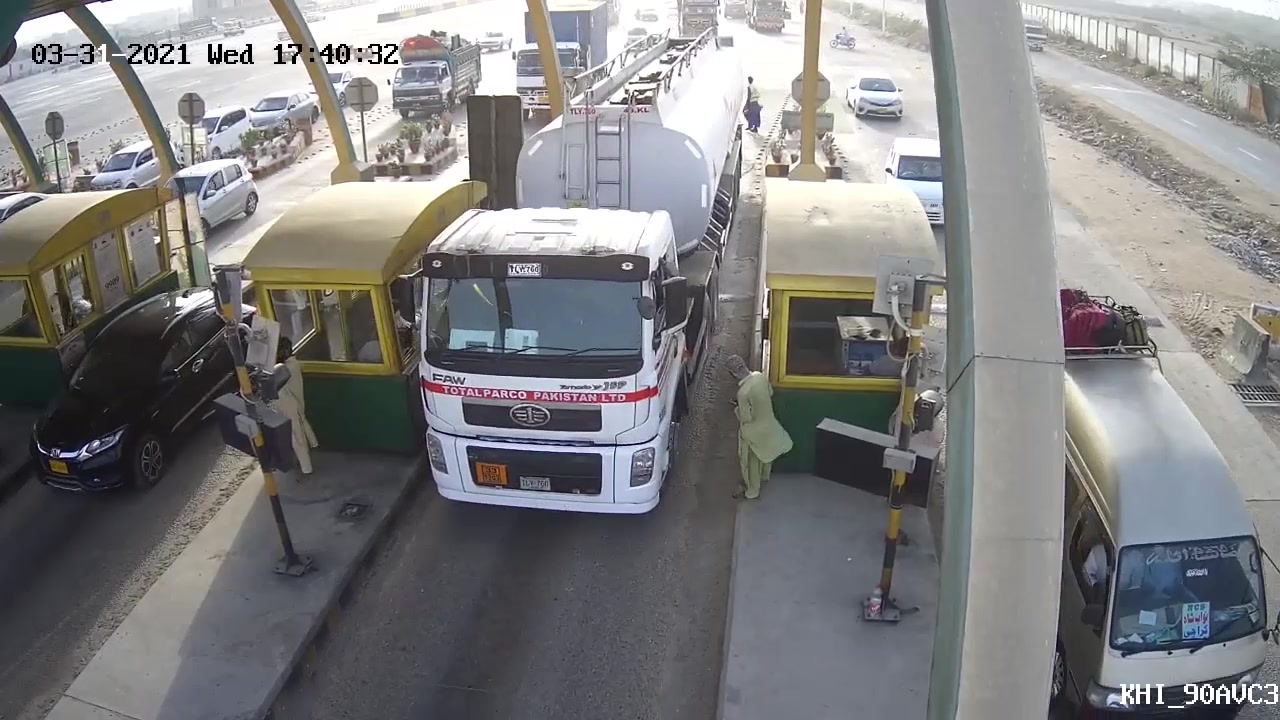F6: (387, 36, 755, 521)
